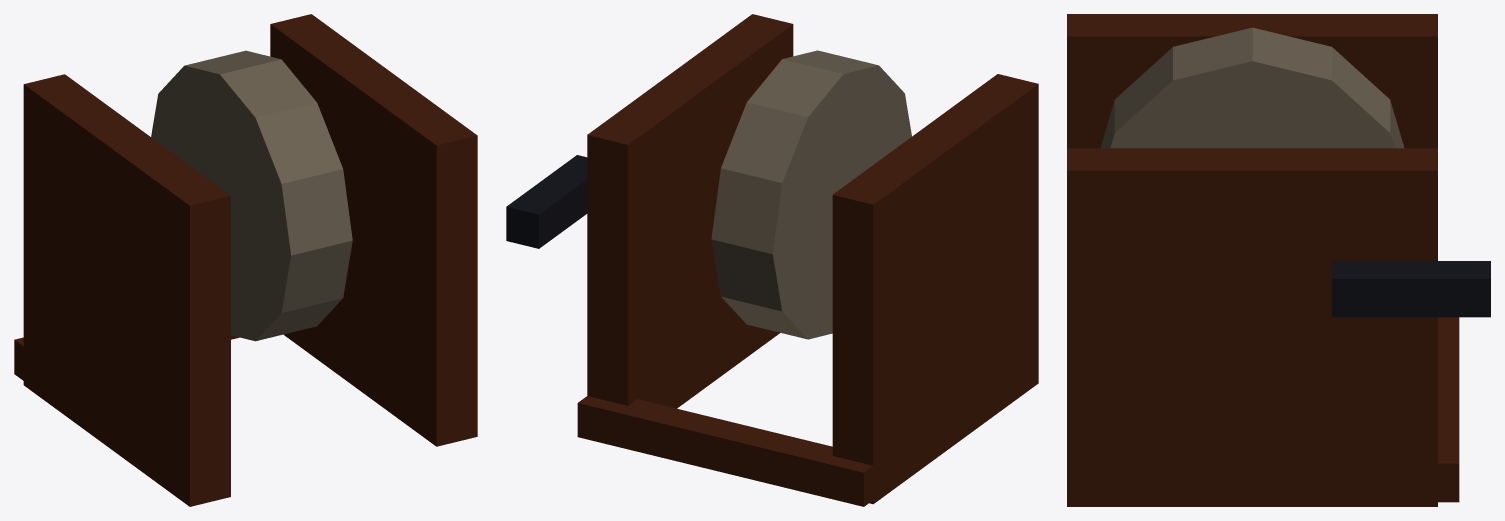
Rendered from grindstone.obj.
The picture shows the model from 3 angles, left to right: view 1: azimuth 30°, elevation 25°; view 2: azimuth 150°, elevation 25°; view 3: azimuth 270°, elevation 25°; orthographic projection. The views are drawn at different scales.
Visible parts, largest first — view 1: grindstone; view 2: grindstone; view 3: grindstone.
Boxes of the visible parts, bbox=[...] form: grindstone: bbox=[14, 14, 477, 506]; grindstone: bbox=[506, 14, 1038, 506]; grindstone: bbox=[1067, 14, 1490, 506].
Size of the model in its own units: 0.84 by 0.8 by 0.8.
